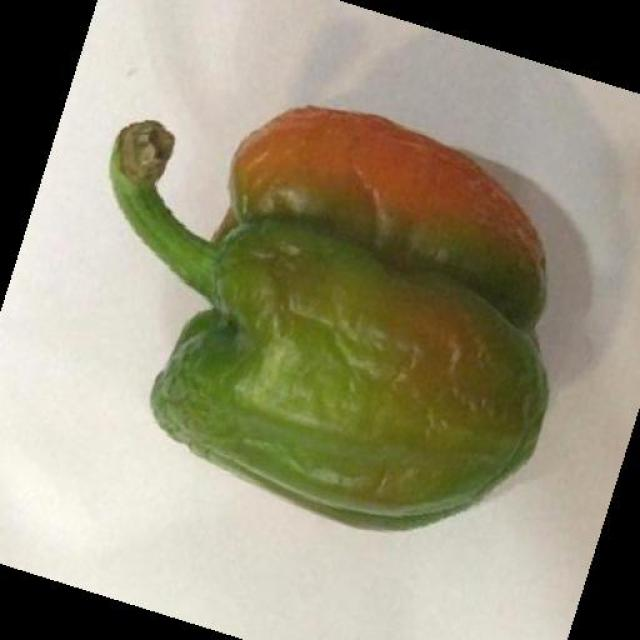Stale_Capsicum: (88, 104, 579, 483)
